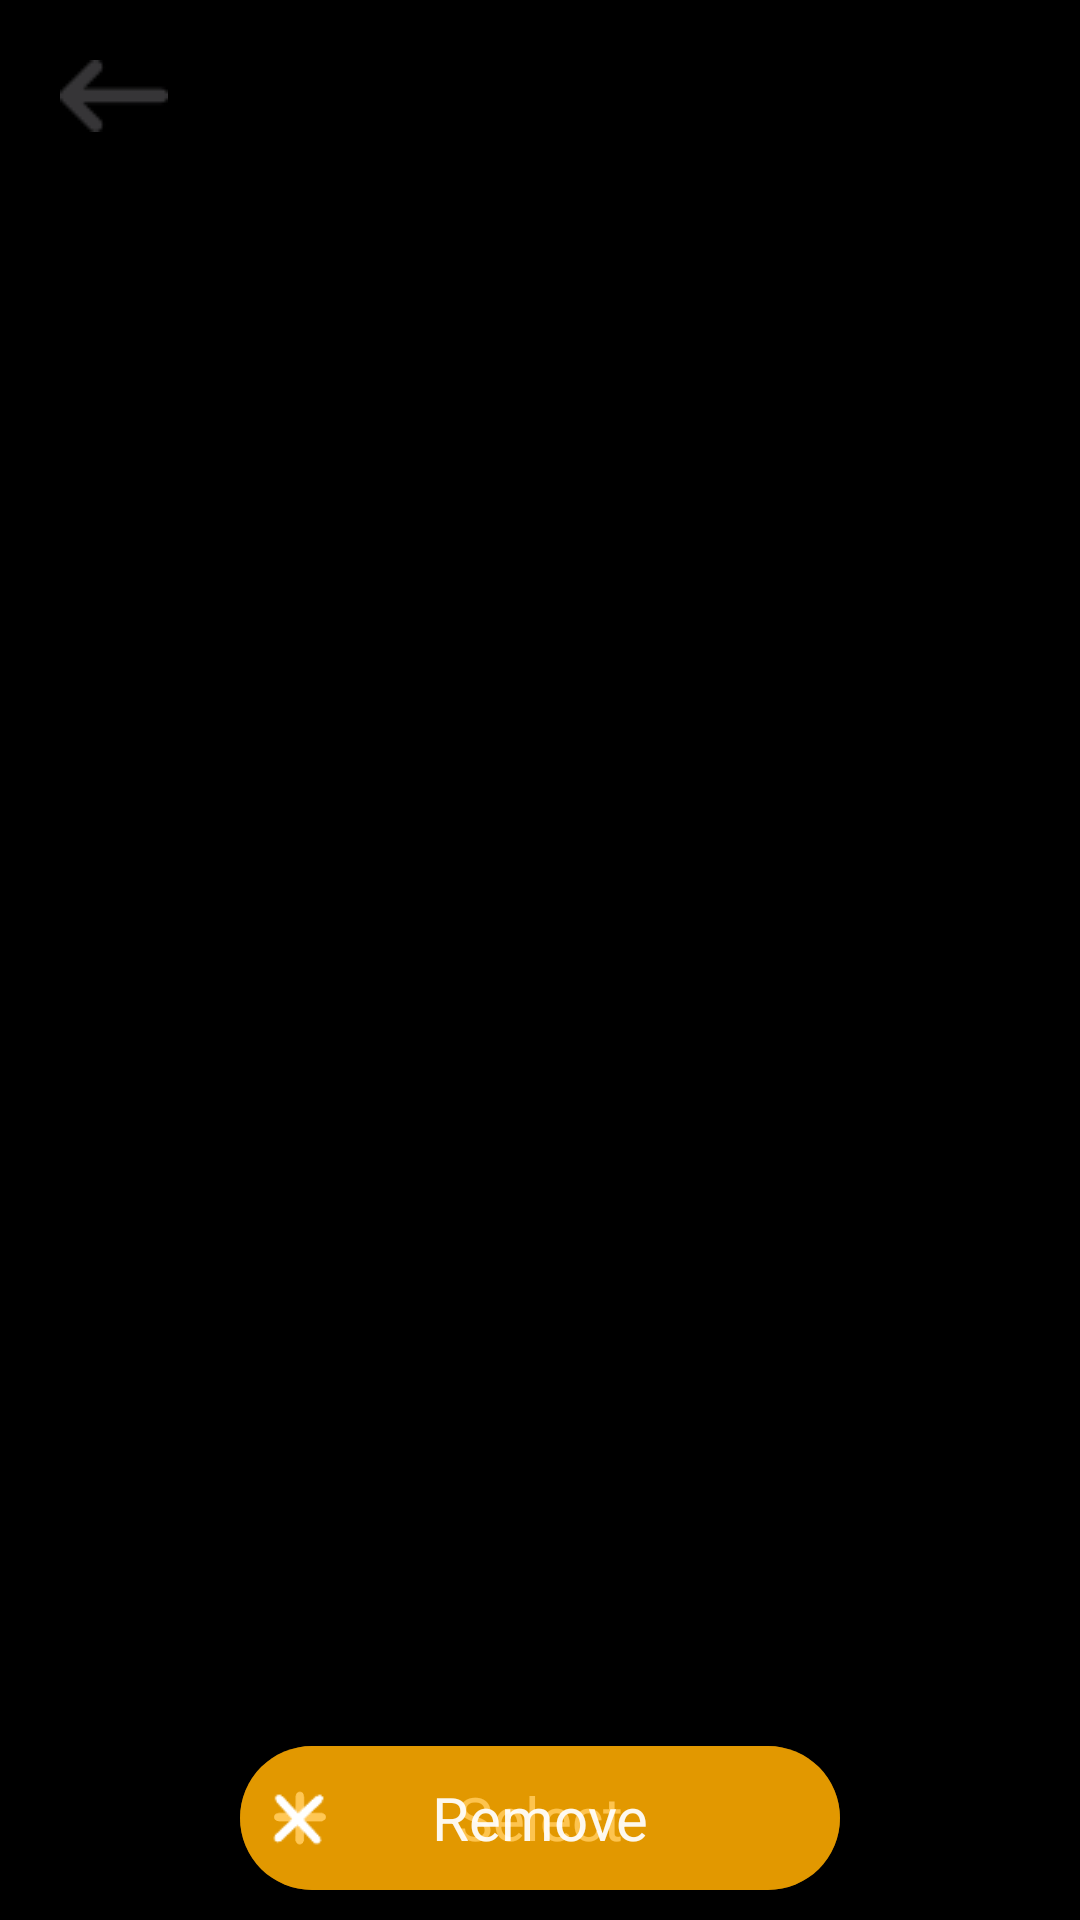

Named icons in this screenshot (1080*1920) and their bounding boxes, rect(x1, y1, x2, y2):
arrow back: rect(60, 60, 168, 132)
